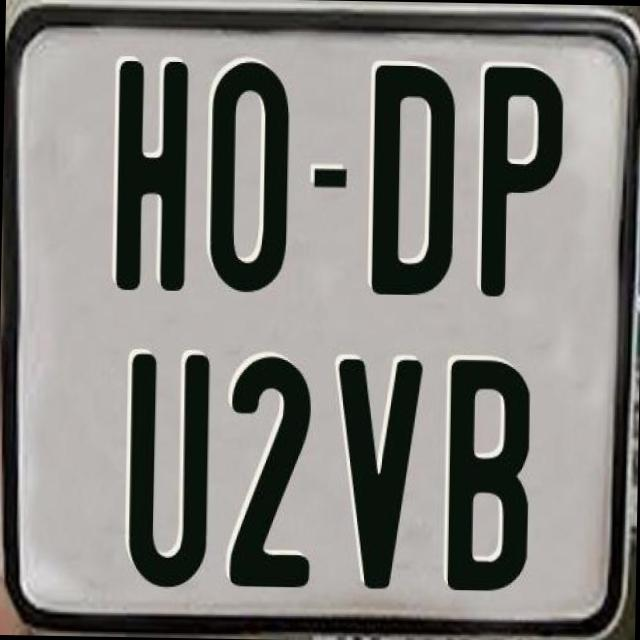0: (204, 56, 288, 290)
2: (226, 355, 318, 589)
B: (446, 358, 532, 592)
D: (371, 62, 459, 295)
H: (115, 60, 190, 294)
P: (480, 60, 568, 298)
U: (127, 350, 215, 590)
V: (334, 359, 425, 595)
